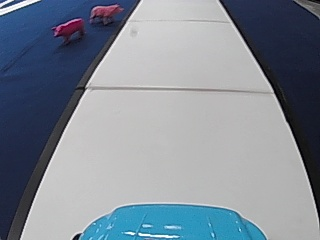pig: (50, 15, 86, 46), (88, 2, 120, 25)
